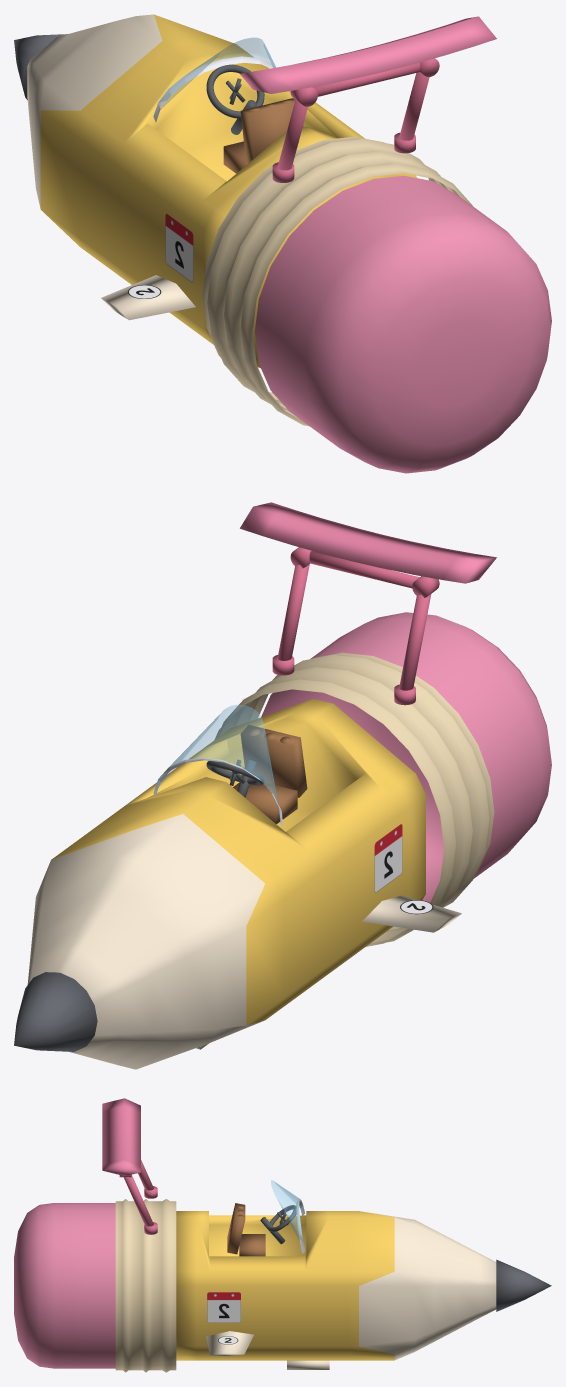
File: boat_lapiz.glb
3 views of the same model, one above another, from view 1: azimuth 30°, elevation 25°; view 2: azimuth 150°, elevation 25°; view 3: azimuth 270°, elevation 25° (orthographic). The views are drawn at different scales.
Visible parts, largest first — view 1: Ferrule_Eraser, Hull_Pencil, Rear_Spoiler, Cockpit_Seat_Wheel, Fins_L_R, Graphite_Tip; view 2: Hull_Pencil, Ferrule_Eraser, Rear_Spoiler, Cockpit_Seat_Wheel, Graphite_Tip, Fins_L_R; view 3: Hull_Pencil, Ferrule_Eraser, Rear_Spoiler, Cockpit_Seat_Wheel, Graphite_Tip, Fins_L_R.
Part boxes in pixels (box(x1,y1,x2,y2)): Ferrule_Eraser: box(202, 136, 551, 473); Hull_Pencil: box(27, 14, 416, 368); Rear_Spoiler: box(240, 16, 496, 182); Cockpit_Seat_Wheel: box(153, 38, 303, 282); Fins_L_R: box(101, 275, 195, 320); Graphite_Tip: box(14, 34, 67, 99); Hull_Pencil: box(27, 698, 425, 1069); Ferrule_Eraser: box(214, 612, 551, 946); Rear_Spoiler: box(240, 502, 496, 705); Cockpit_Seat_Wheel: box(153, 705, 402, 892); Graphite_Tip: box(14, 972, 97, 1051); Fins_L_R: box(362, 895, 461, 932); Hull_Pencil: box(176, 1211, 496, 1369); Ferrule_Eraser: box(14, 1199, 176, 1372); Rear_Spoiler: box(102, 1098, 157, 1234); Cockpit_Seat_Wheel: box(207, 1180, 305, 1322); Graphite_Tip: box(496, 1259, 551, 1311); Fins_L_R: box(206, 1331, 253, 1356).
Bounding box in the file's own units: 2.3 × 2.58 × 5.3.
Materials: 13 (2 with a texture image).
